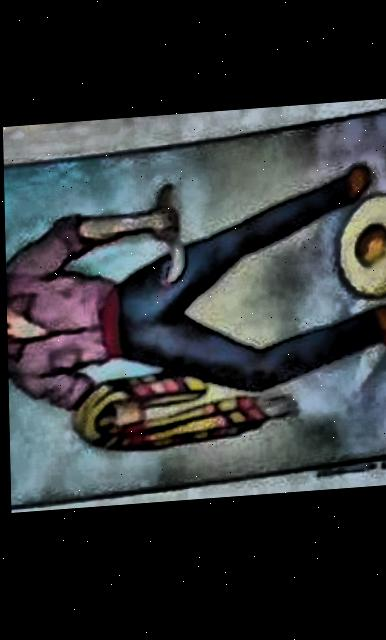El Valiente: (3, 113, 386, 504)
